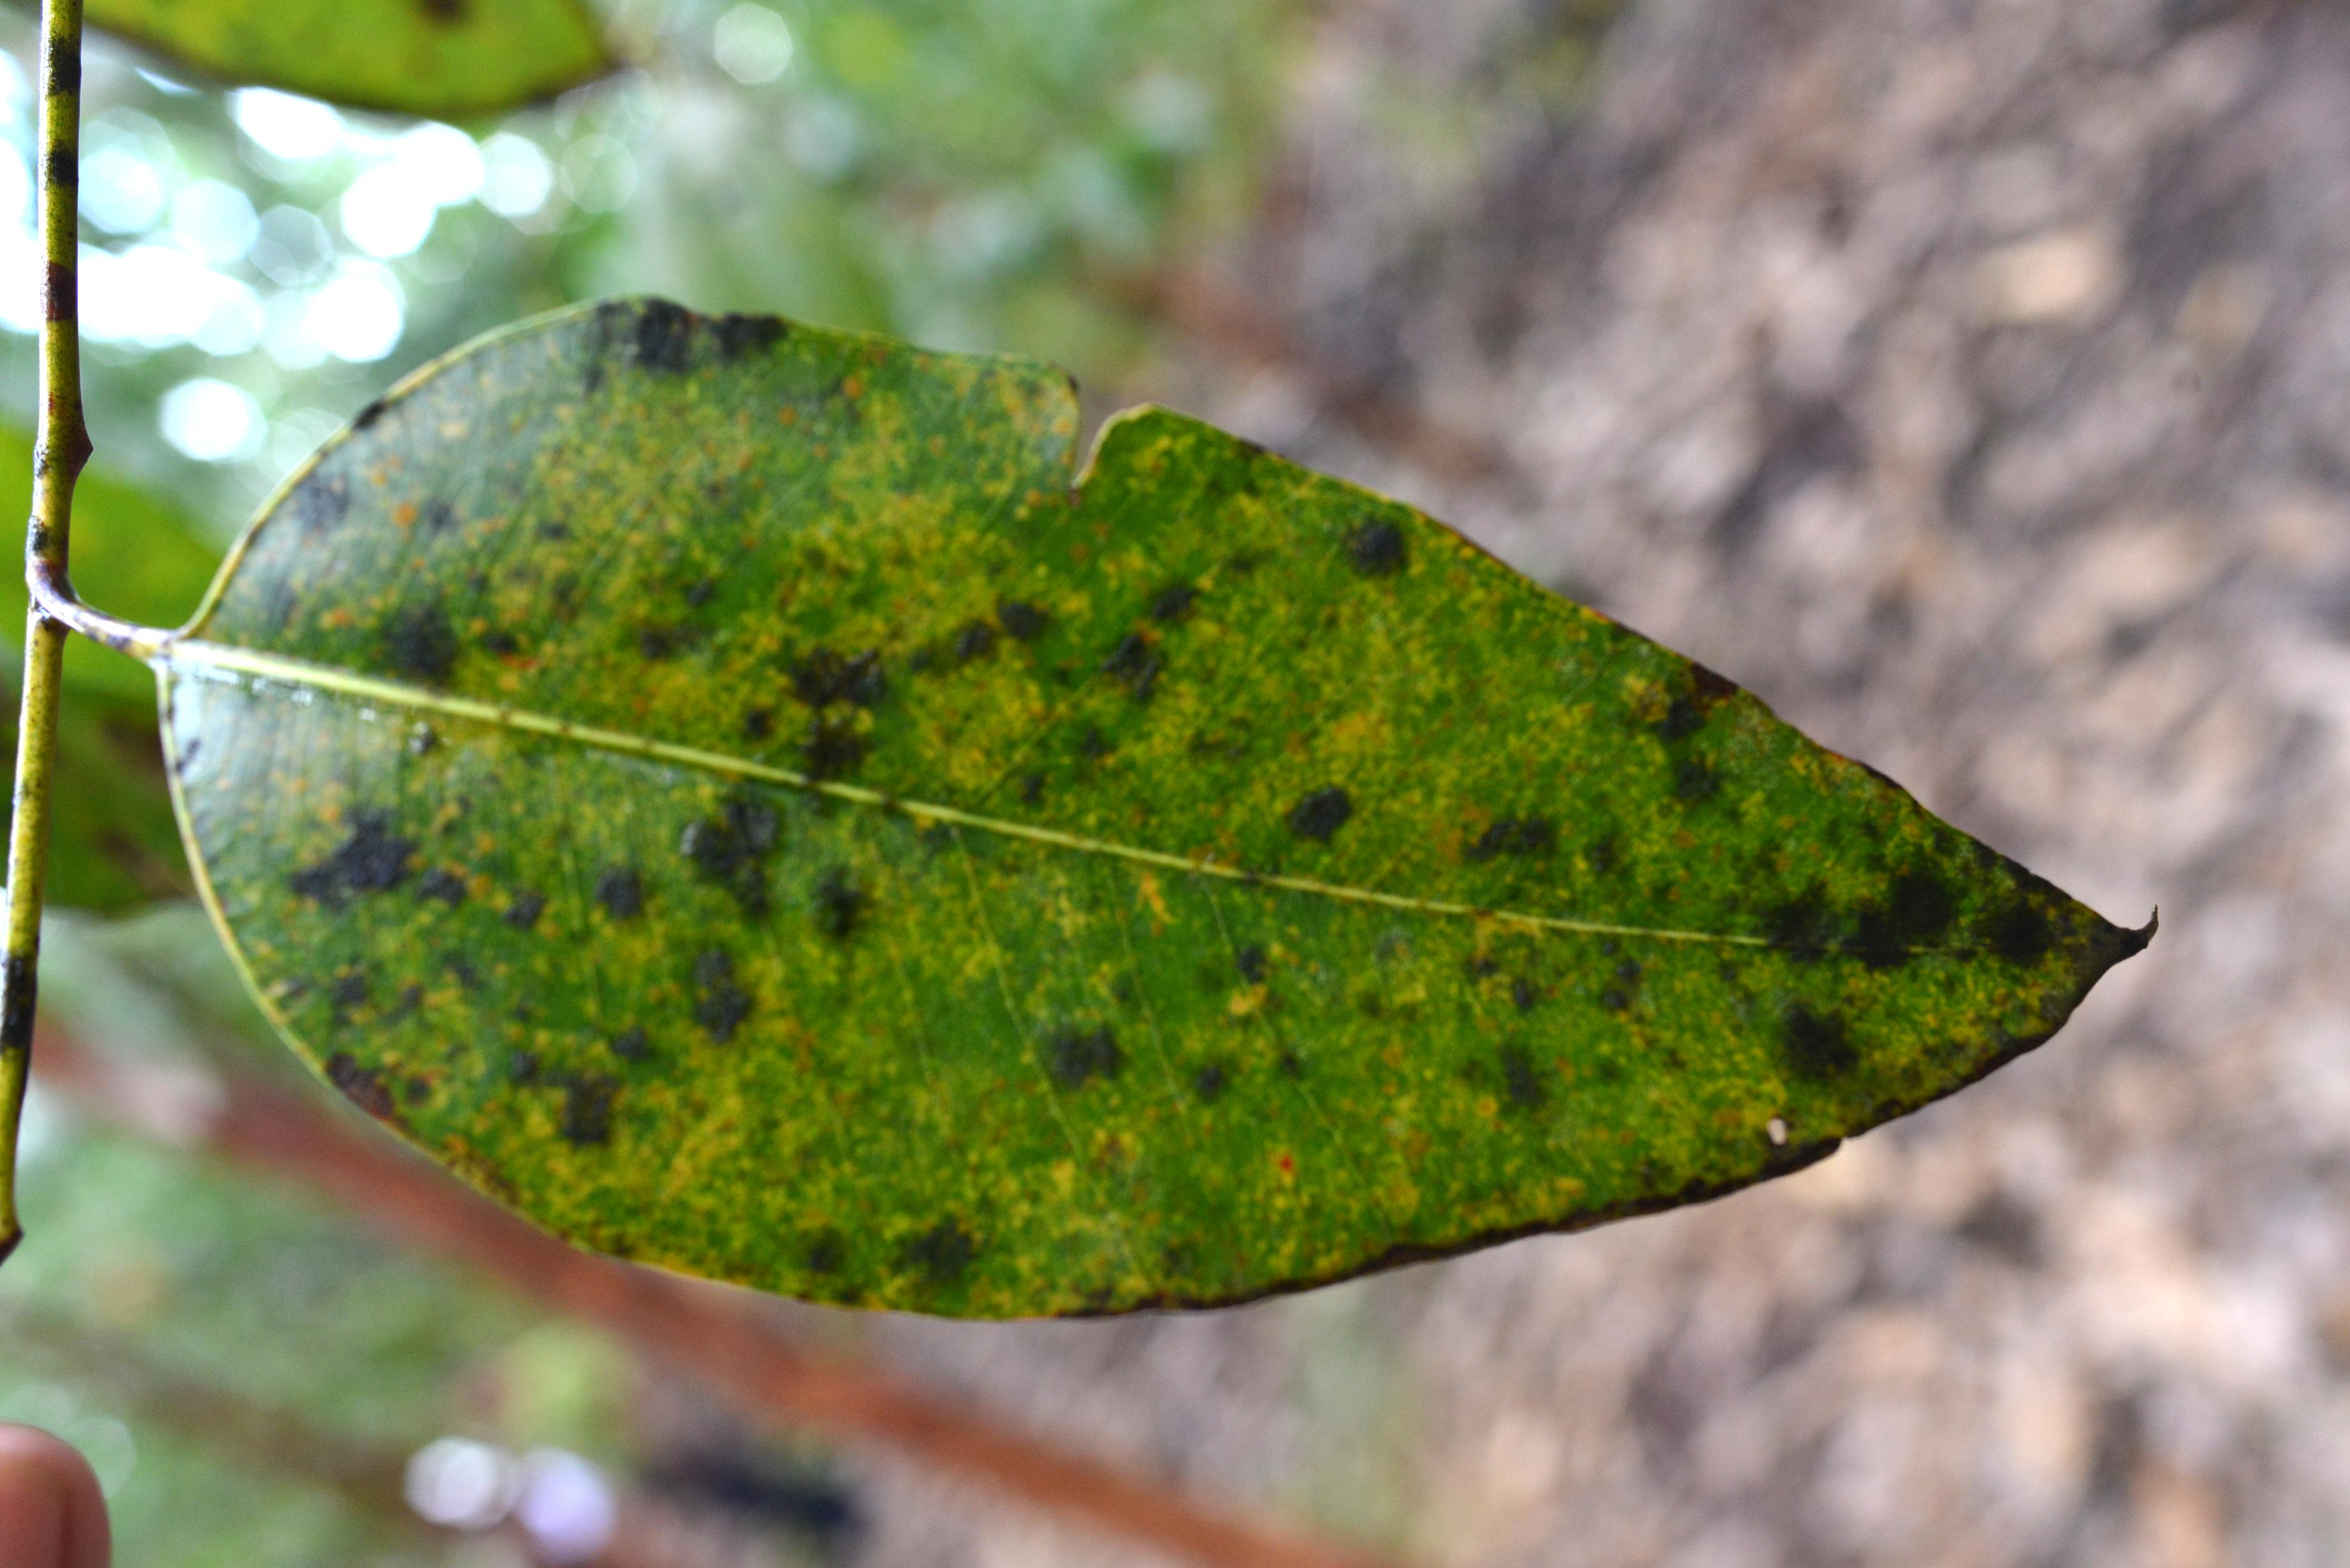Embun Jelaga: (163, 304, 2161, 1332), (0, 0, 607, 119)
